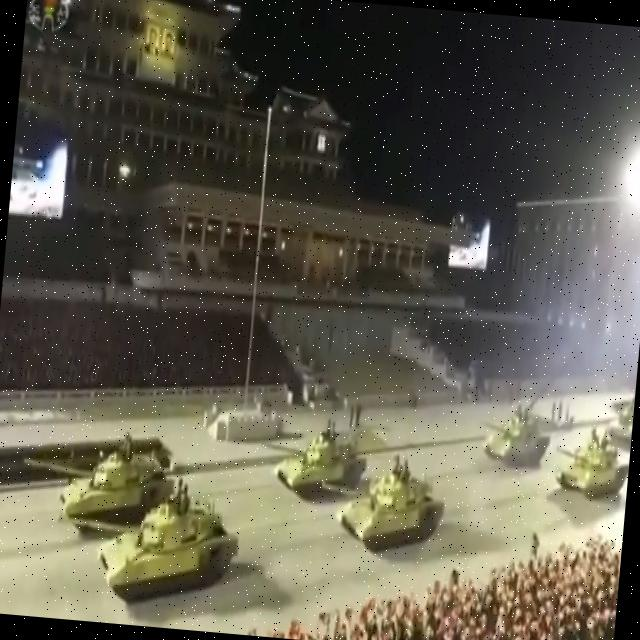north tank: (97, 466, 262, 608), (343, 452, 478, 578), (30, 417, 169, 532), (270, 400, 374, 506), (544, 421, 632, 530), (474, 389, 562, 478)
